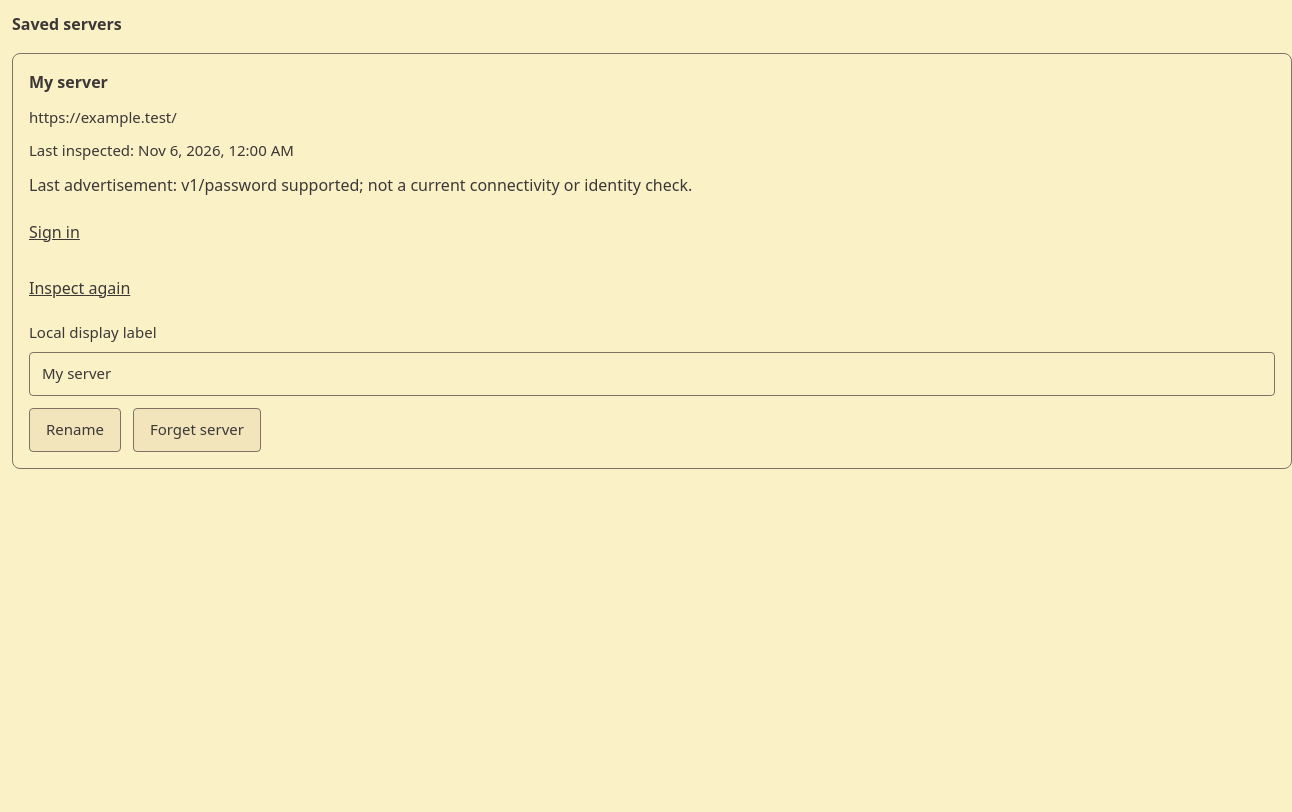
Test: lists historical profiles without network effects; forget requires confirmation and restores focus
The image size is (1292, 812).
Expected: the heading "My server" is shown, x1=29 y1=71 x2=108 y2=93
Expected: the text "Last advertisement" is shown, x1=29 y1=174 x2=692 y2=196
Click the button "Forget server" at (197,430), box x1=133 y1=408 x2=261 y2=452
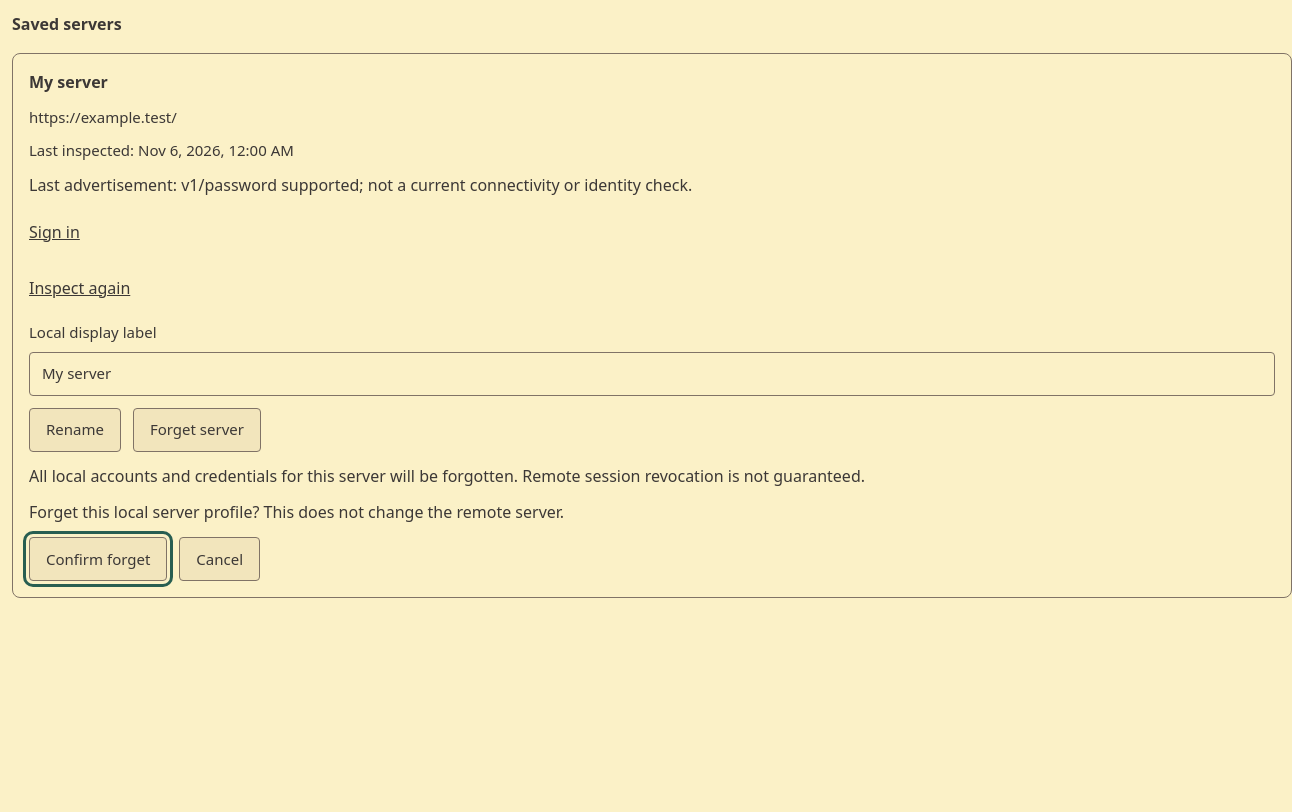
Click the button "Cancel" at (220,559), box x1=179 y1=537 x2=260 y2=581
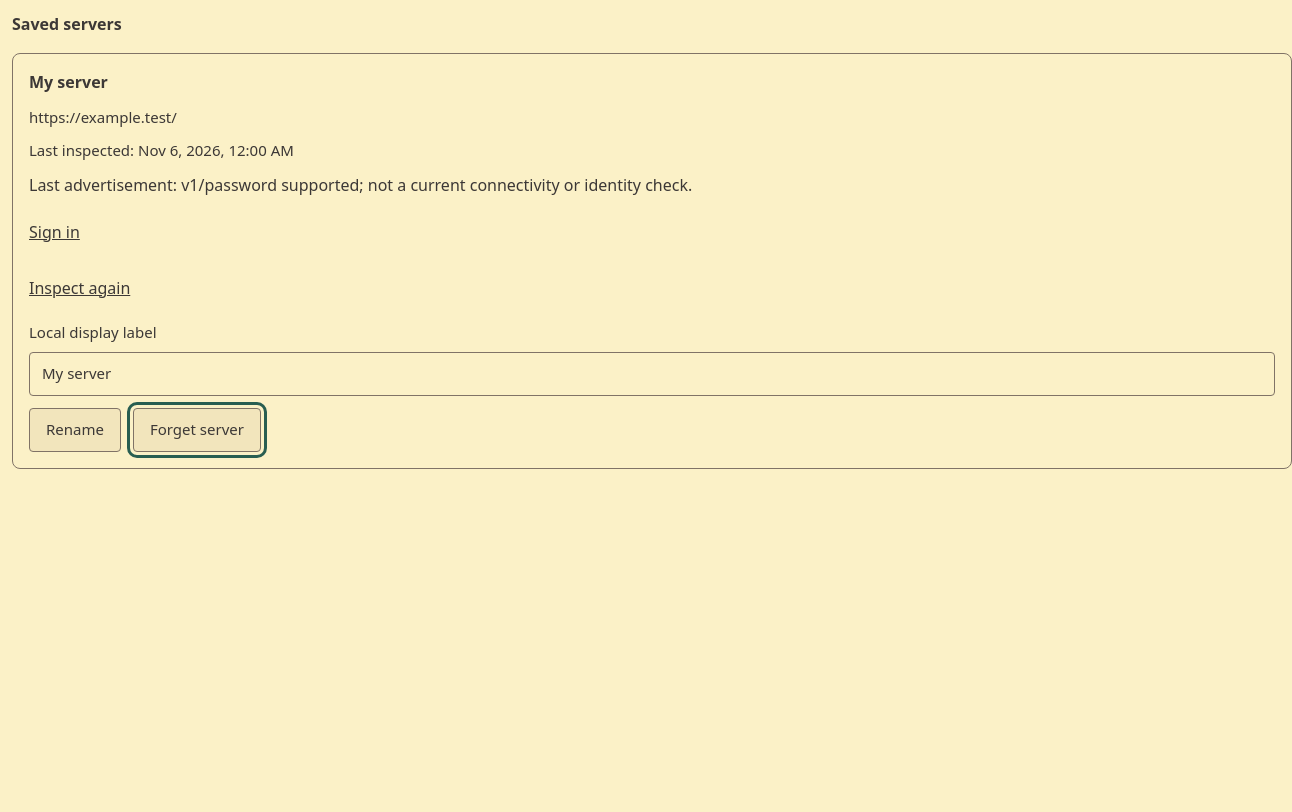
Click the button "Forget server" at (197,430), box x1=133 y1=408 x2=261 y2=452
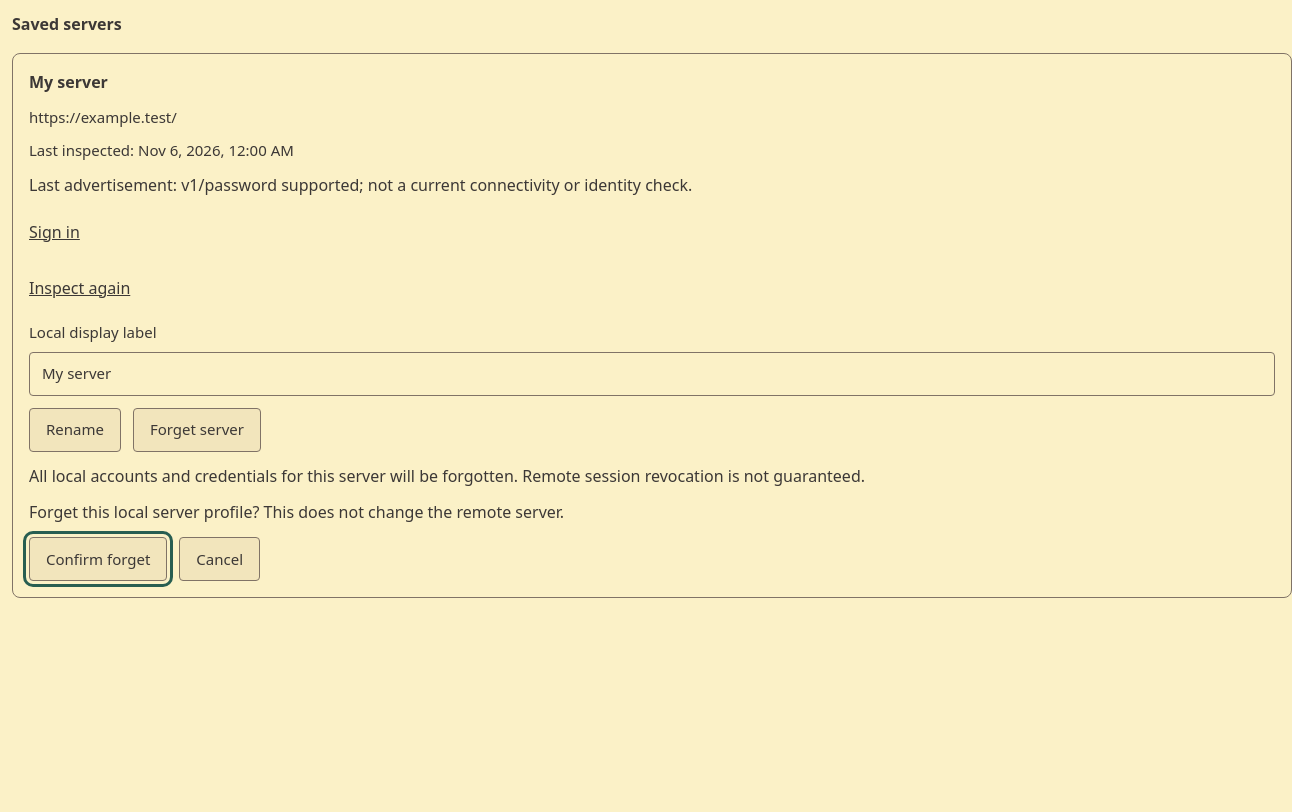
Click the button "Confirm forget" at (98,559), box x1=29 y1=537 x2=167 y2=581
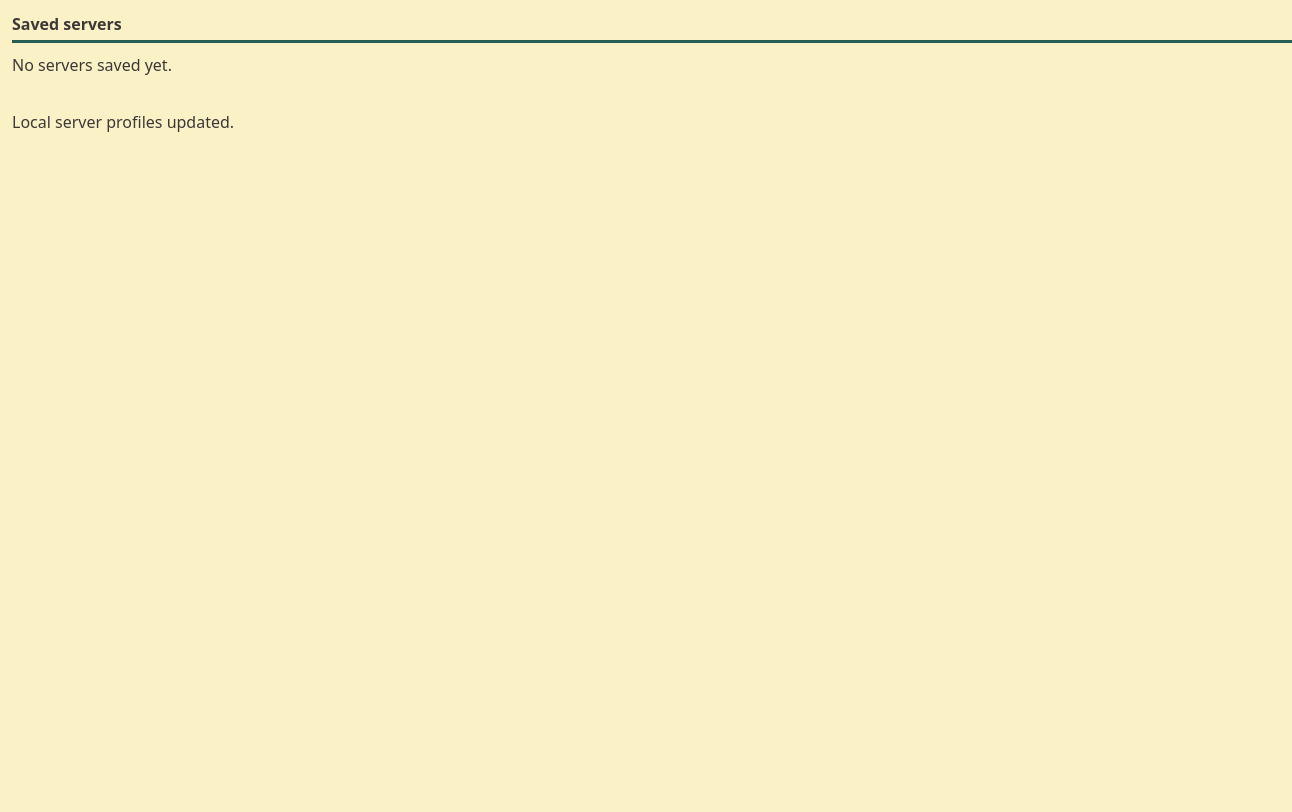
Now the text "No servers saved yet." is shown, box x1=12 y1=54 x2=172 y2=76
